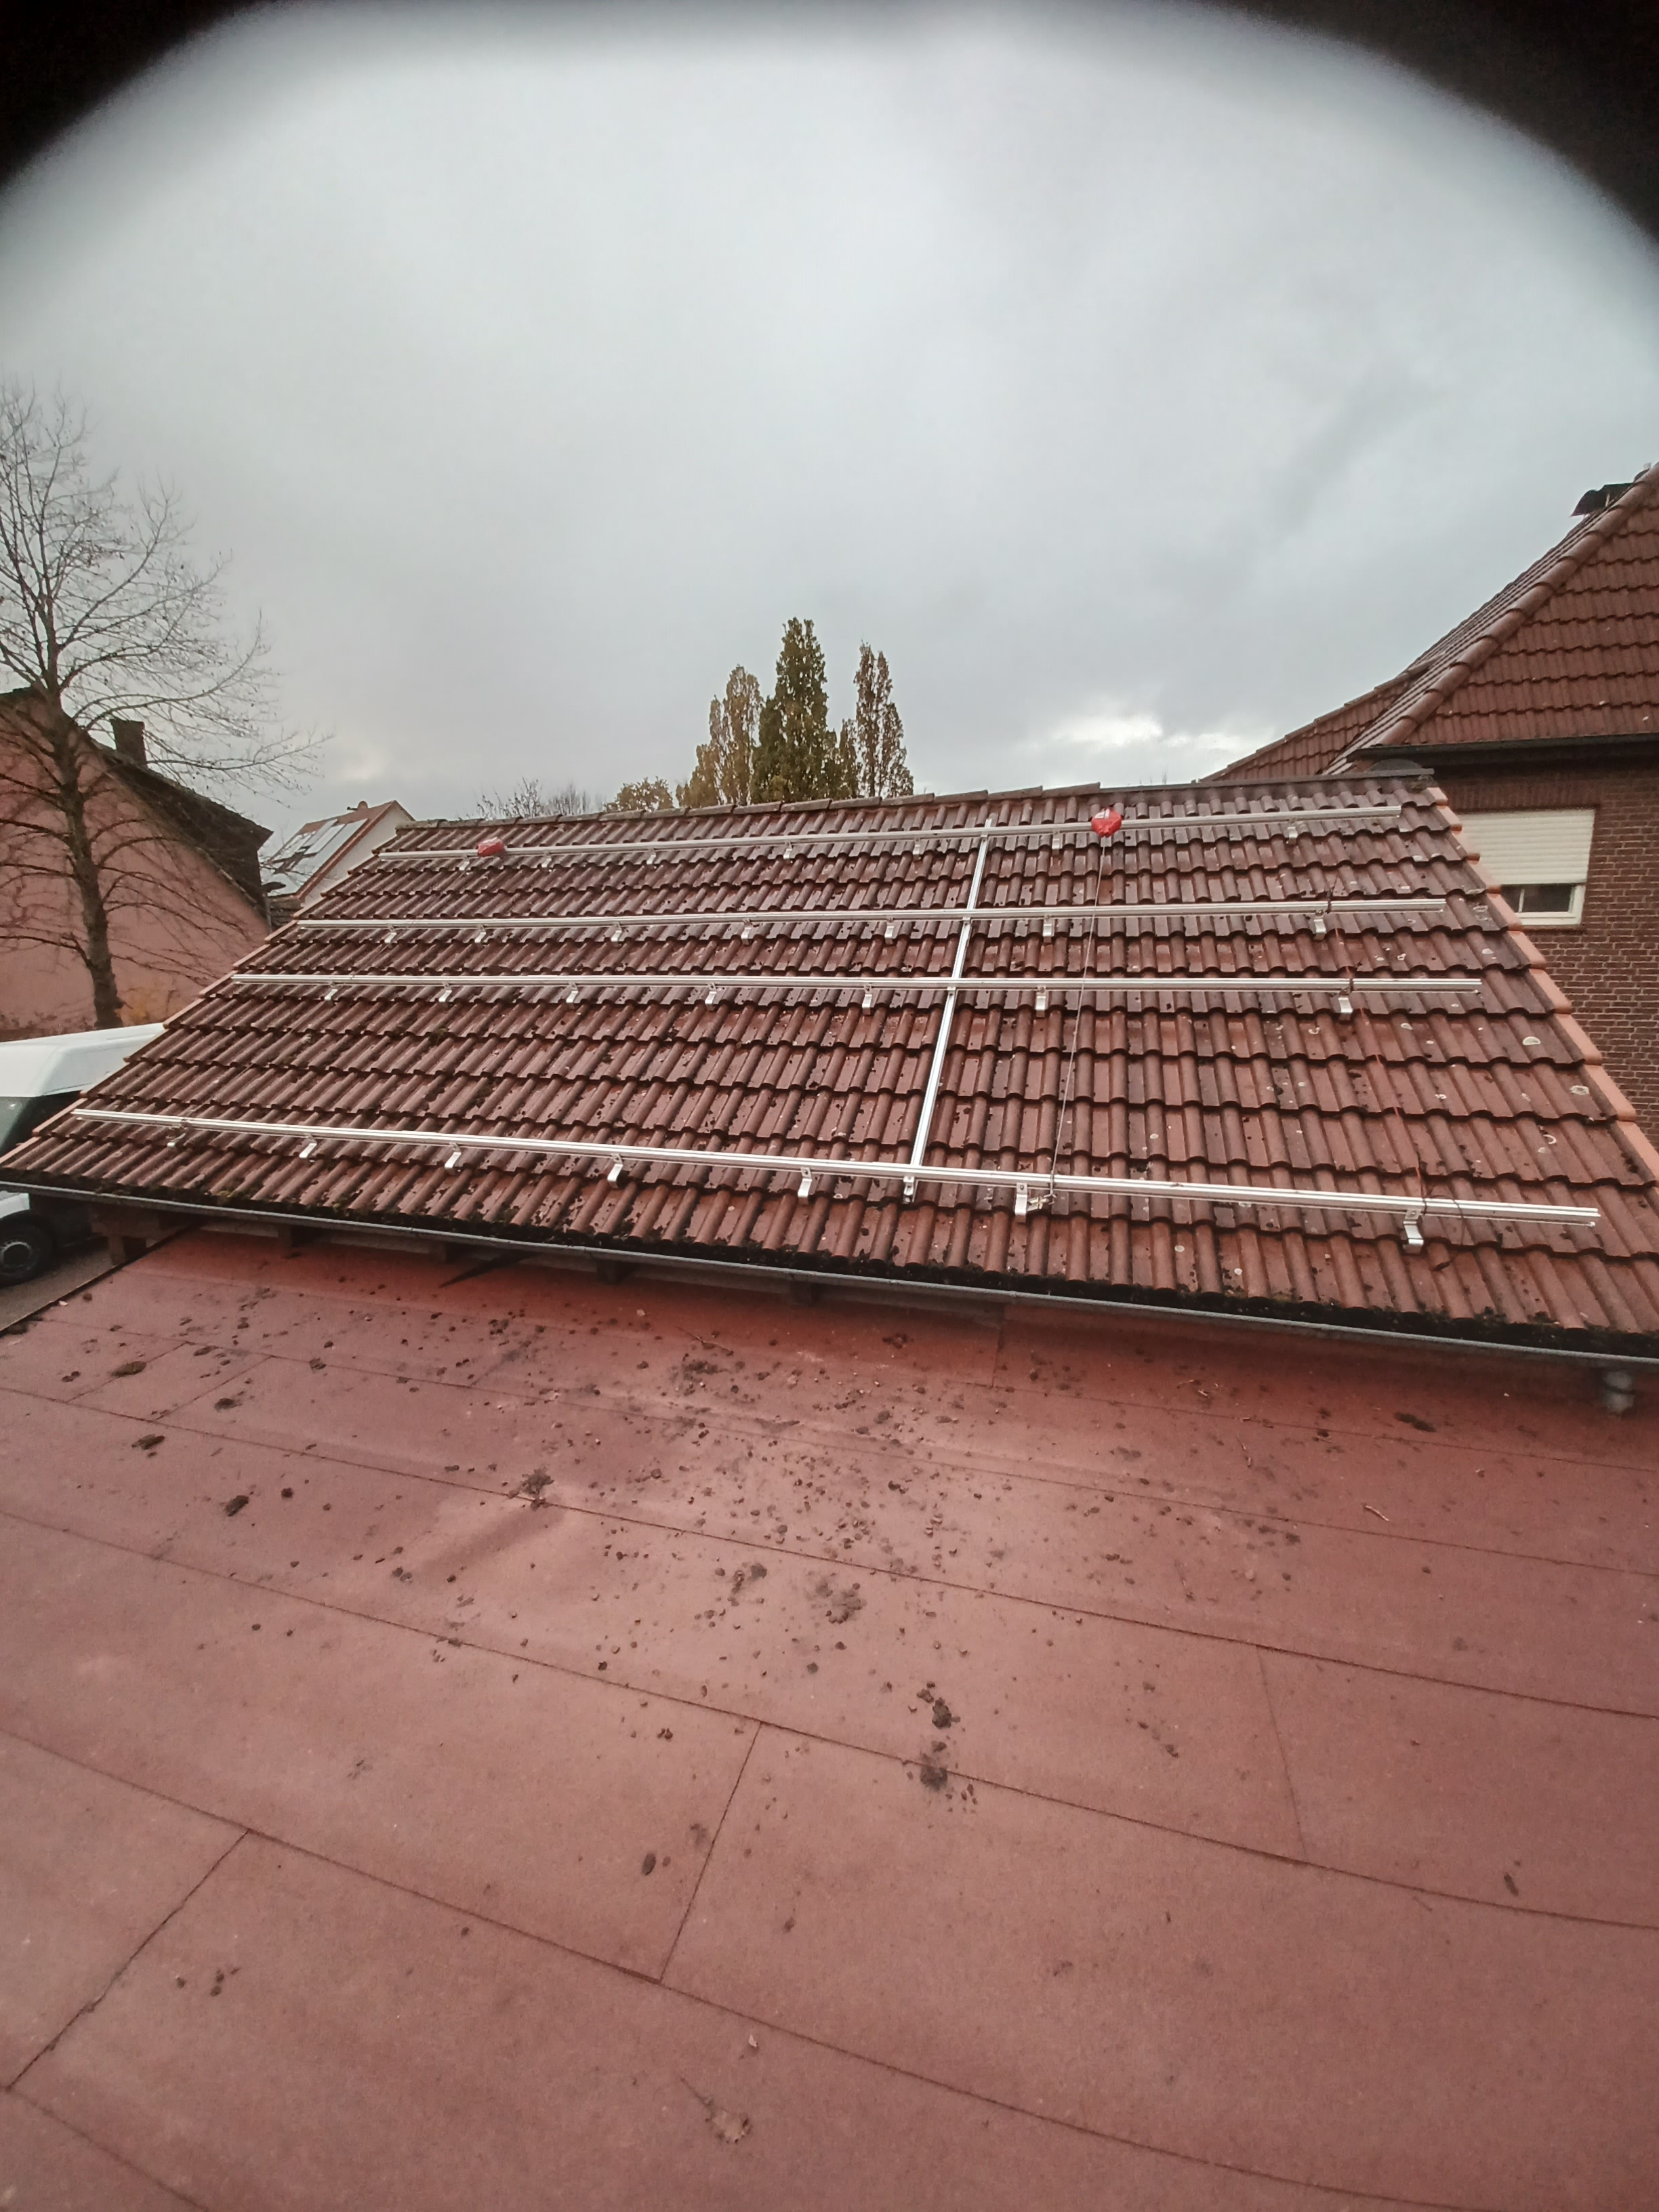hook: (1403, 1209, 1424, 1254), (444, 1141, 464, 1176), (167, 1122, 188, 1153), (606, 1153, 624, 1188), (796, 1167, 812, 1205), (1014, 1183, 1028, 1223), (300, 1134, 317, 1163), (1338, 986, 1352, 1022), (1310, 907, 1326, 939), (439, 981, 453, 1008), (324, 981, 338, 1007), (704, 982, 716, 1010), (566, 981, 579, 1008), (1035, 986, 1046, 1017), (1286, 817, 1298, 843), (610, 921, 622, 948), (741, 918, 753, 944), (1042, 913, 1053, 942), (474, 925, 486, 948), (385, 925, 397, 948), (863, 984, 871, 1015), (542, 850, 552, 874), (885, 916, 894, 944), (647, 846, 657, 869), (1051, 829, 1060, 855), (460, 853, 471, 874), (784, 840, 793, 864), (913, 836, 922, 860)
